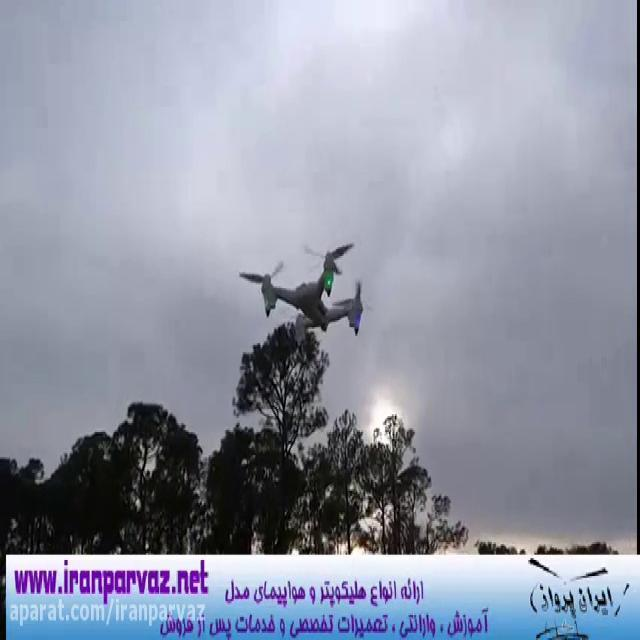drone: (236, 235, 375, 349)
